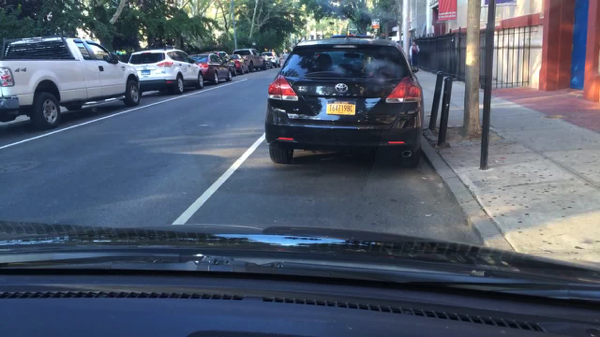car: (264, 37, 424, 170), (1, 37, 142, 130), (128, 49, 206, 94), (189, 52, 233, 84), (231, 48, 266, 73), (206, 51, 238, 77), (228, 54, 250, 75), (262, 51, 280, 68), (330, 35, 375, 41), (259, 52, 273, 70)
person: (408, 39, 421, 74)
traffic sign: (370, 18, 379, 29), (251, 40, 257, 46)
